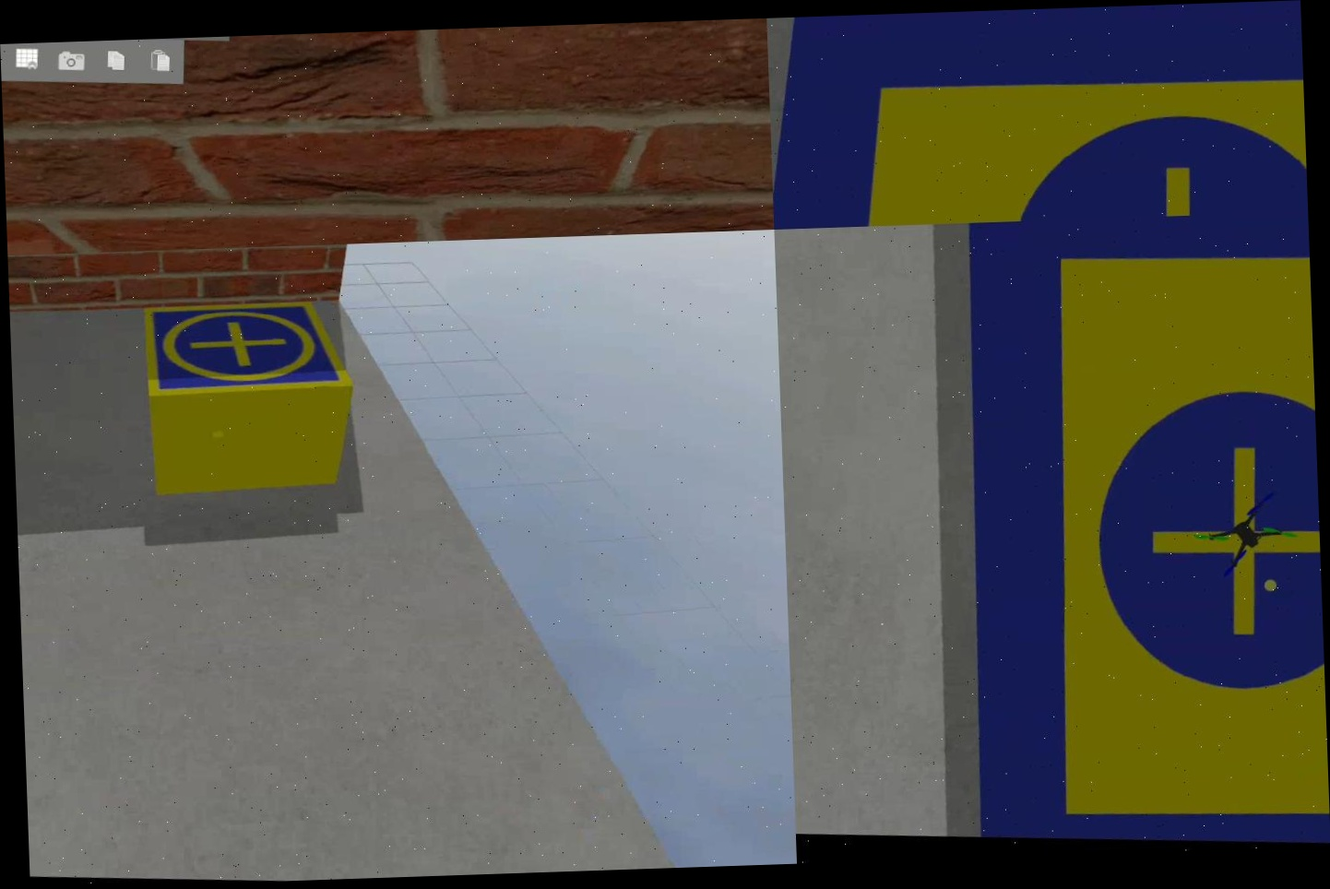large_base: (929, 211, 1330, 858), (766, 0, 1307, 230)
small_base: (138, 293, 359, 413)
